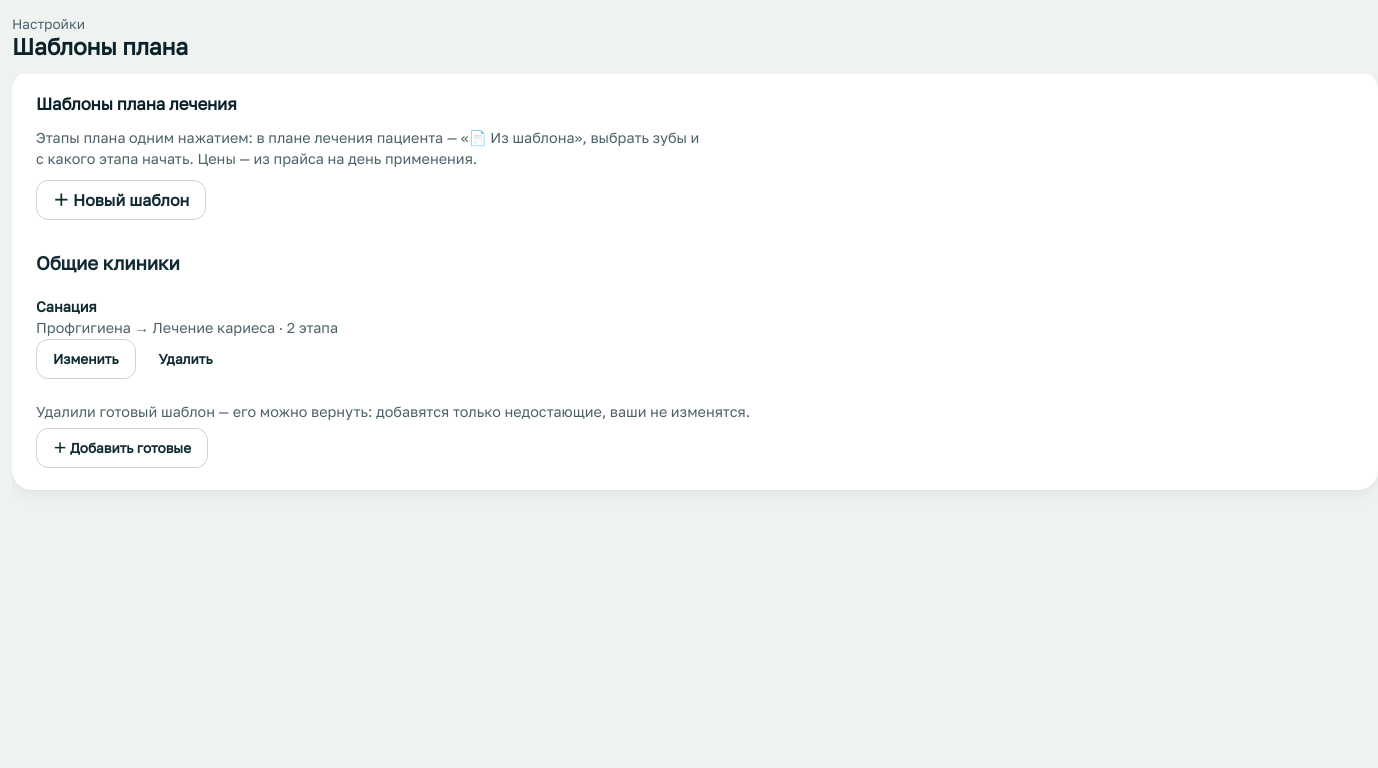
Test: шаблоны уже есть — «Добавить готовые» внизу возвращает только недостающие (сервер, V246)
Expected: the element "Общие клиники" is shown, [36,252,338,379]
Expected: the text "Удалили готовый шаблон — его можно вернуть" is shown, [36,403,750,420]
Click the button "＋ Добавить готовые" at (122,448), box [36,428,208,468]
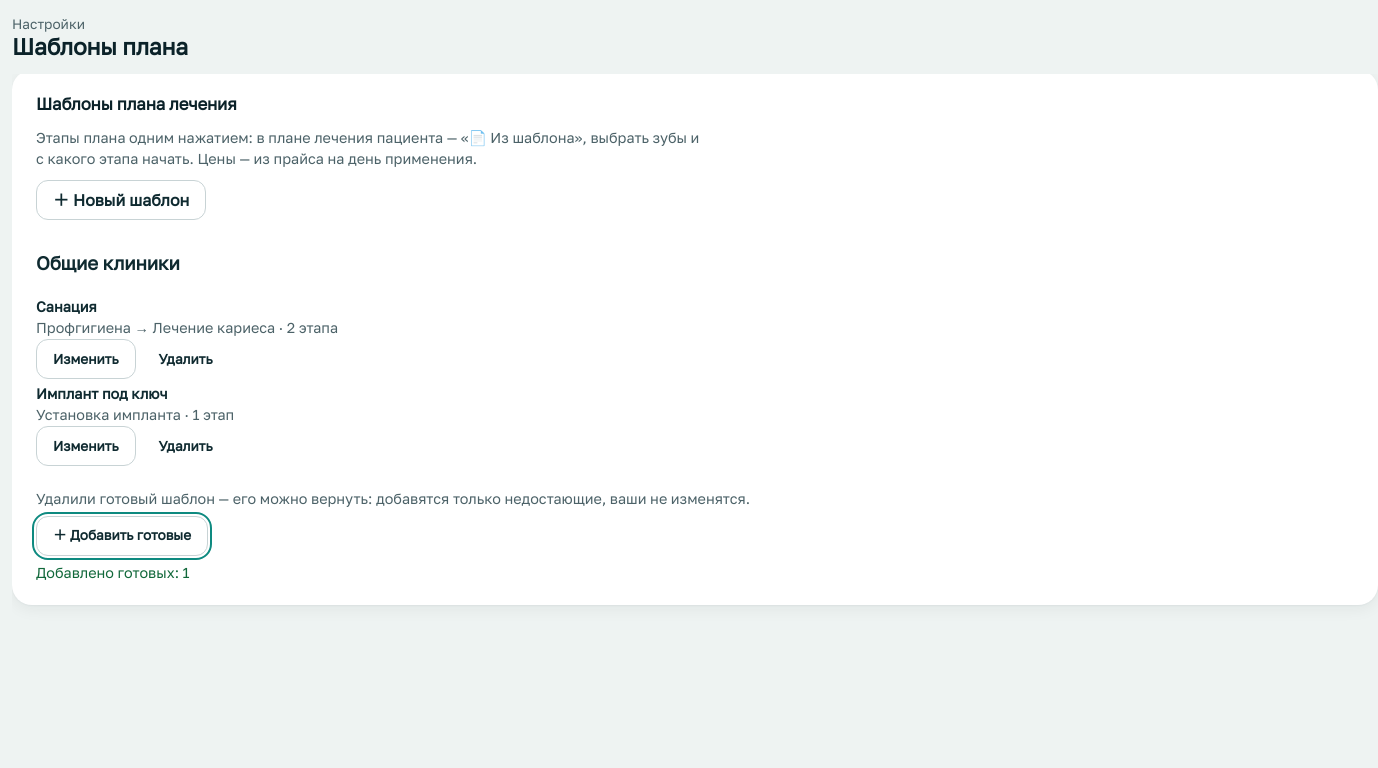
Result: the message reads "Добавлено готовых: 1" at [36,564,190,580]
Result: the text "Имплант под ключ" is shown at [36,385,168,402]
